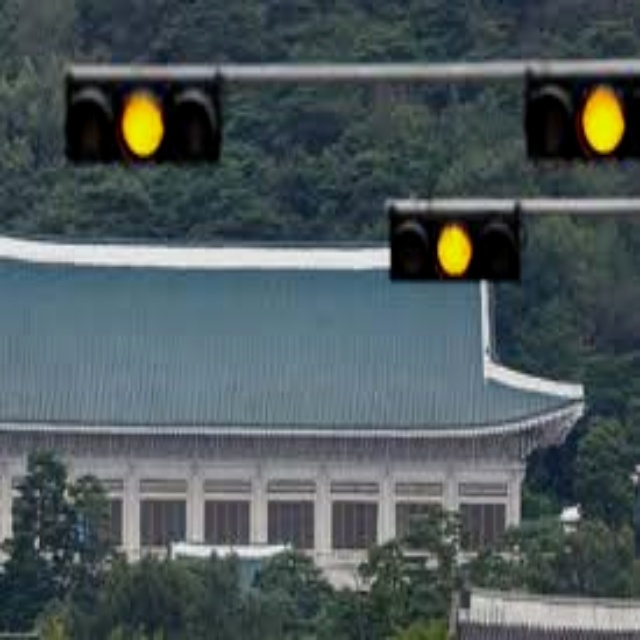yellow_light: (583, 88, 629, 154), (119, 96, 165, 156), (435, 223, 472, 275)
